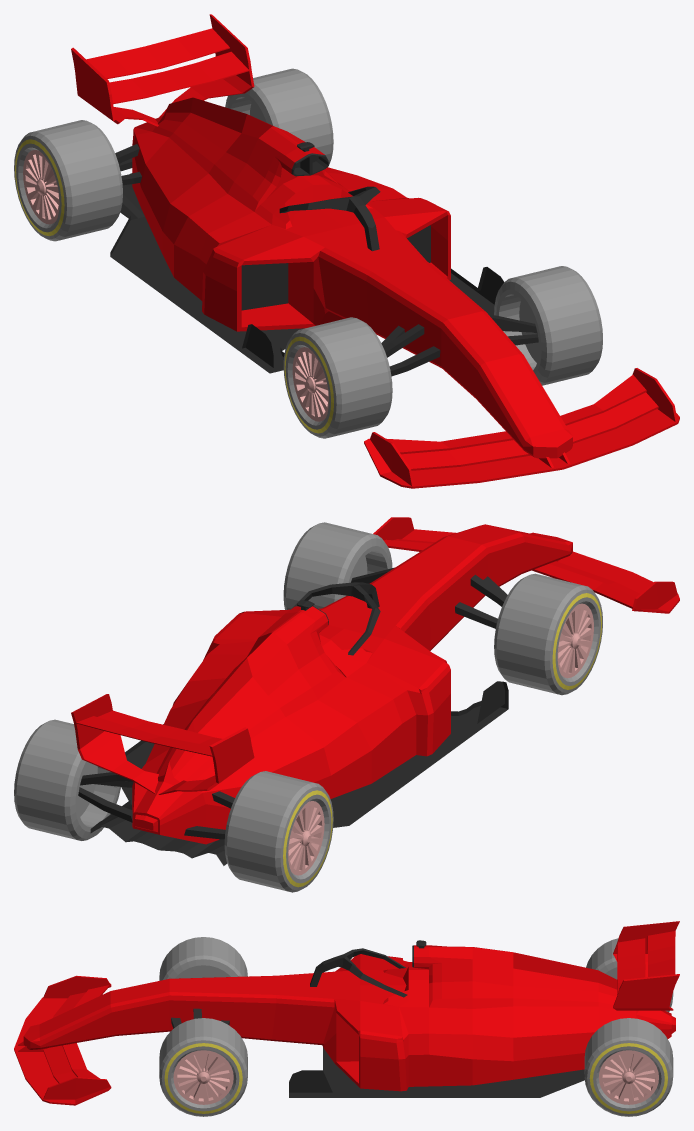
File: car.glb
3 views of the same model, one above another, from view 1: azimuth 30°, elevation 25°; view 2: azimuth 150°, elevation 25°; view 3: azimuth 270°, elevation 25° (orthographic). The views are drawn at different scales.
Visible parts, largest first — view 1: Body_Main, Body_FrontWing, Wheel_FR, Wheel_RR, Body_RearWing, Wheel_FL, Body_Floor, Wheel_RL, Body_Halo; view 2: Body_Main, Wheel_RR, Wheel_FR, Wheel_RL, Body_RearWing, Body_Floor, Wheel_FL, Body_FrontWing, Body_Halo, Arm_RL_Rear; view 3: Body_Main, Wheel_RL, Wheel_FL, Body_FrontWing, Body_Floor, Body_RearWing, Wheel_FR, Body_Halo, Wheel_RR.
Part boxes in pixels (x1=…): Body_Main: x1=132, y1=97, x2=572, y2=458; Body_FrontWing: x1=364, y1=368, x2=679, y2=488; Wheel_FR: x1=283, y1=317, x2=392, y2=438; Wheel_RR: x1=14, y1=120, x2=122, y2=241; Body_RearWing: x1=71, y1=14, x2=254, y2=126; Wheel_FL: x1=494, y1=266, x2=602, y2=385; Body_Floor: x1=110, y1=173, x2=504, y2=373; Wheel_RL: x1=225, y1=68, x2=333, y2=164; Body_Halo: x1=279, y1=186, x2=380, y2=251; Body_Main: x1=132, y1=524, x2=572, y2=844; Wheel_RR: x1=224, y1=771, x2=333, y2=892; Wheel_FR: x1=494, y1=573, x2=602, y2=695; Wheel_RL: x1=14, y1=719, x2=120, y2=840; Body_RearWing: x1=71, y1=694, x2=254, y2=794; Body_Floor: x1=90, y1=681, x2=508, y2=865; Wheel_FL: x1=283, y1=522, x2=392, y2=609; Body_FrontWing: x1=373, y1=517, x2=679, y2=613; Body_Halo: x1=291, y1=582, x2=380, y2=655; Arm_RL_Rear: x1=78, y1=787, x2=132, y2=822; Body_Main: x1=23, y1=940, x2=675, y2=1091; Wheel_RL: x1=584, y1=1018, x2=673, y2=1116; Wheel_FL: x1=159, y1=1018, x2=247, y2=1116; Body_FrontWing: x1=14, y1=975, x2=111, y2=1105; Body_Floor: x1=289, y1=1047, x2=584, y2=1097; Body_RearWing: x1=613, y1=921, x2=679, y2=1010; Wheel_FR: x1=159, y1=937, x2=247, y2=980; Body_Halo: x1=310, y1=948, x2=407, y2=997; Wheel_RR: x1=586, y1=938, x2=673, y2=1012.
Size of the model in its own units: 2.22 by 1.16 by 5.62.
